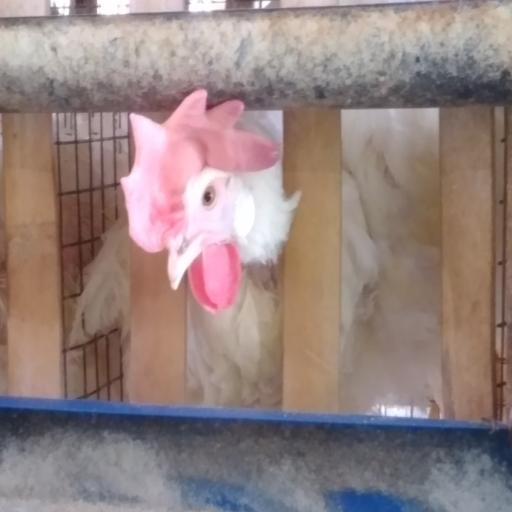healthy: (131, 117, 273, 298)
